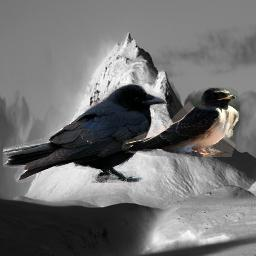Crow: (3, 83, 166, 183)
Swallow: (121, 87, 240, 157)
